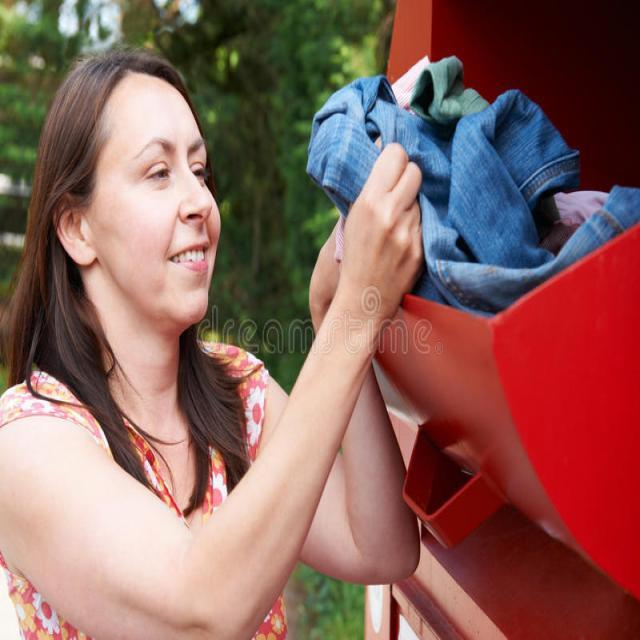clothes: (394, 72, 640, 288), (308, 84, 386, 192)
